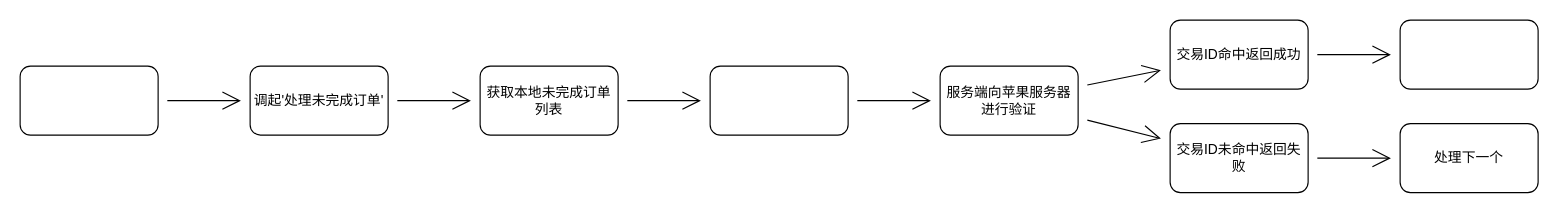
Image size: 1558x213. Some labels were removed from this diagram. The centre of each missing label's shape, as x and y in pixels:
UnLock: point (1468, 54)
取出第一个未完成订单，发起验单: point (778, 100)
获取商品列表: point (88, 100)
